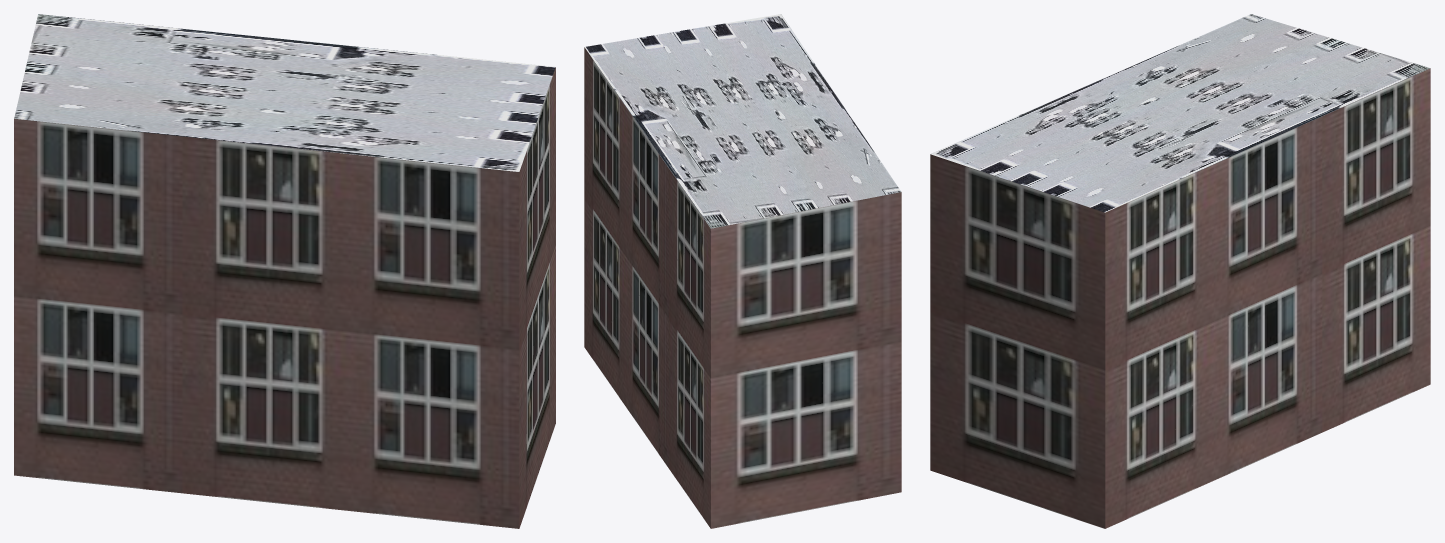
Rendered from ResTex__858.fbx.
3 renders of one model, left to right at view 1: azimuth 30°, elevation 25°; view 2: azimuth 150°, elevation 25°; view 3: azimuth 270°, elevation 25°, orthographic. The views are drawn at different scales.
Visible parts, largest first — view 1: CityEngineMaterial_12_m, CityEngineMaterial_m; view 2: CityEngineMaterial_12_m, CityEngineMaterial_m; view 3: CityEngineMaterial_12_m, CityEngineMaterial_m.
Boxes of the visible parts, x1,y1,x2,y2 form: CityEngineMaterial_12_m: (14,67,555,528); CityEngineMaterial_m: (14,14,555,171); CityEngineMaterial_12_m: (584,47,901,528); CityEngineMaterial_m: (584,14,901,228); CityEngineMaterial_12_m: (930,68,1430,528); CityEngineMaterial_m: (930,14,1430,212).
Bounding box in the file's own units: 8.08 × 6 × 8.61.
Materials: 2 (2 with a texture image).
